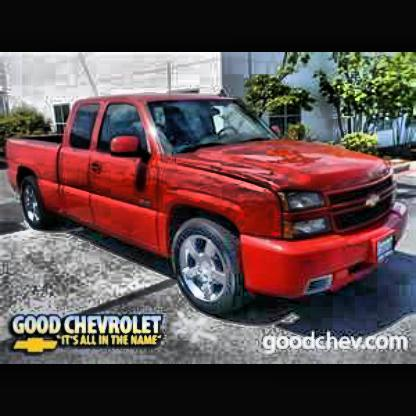Chevrolet Silverado 1500 Classic Extended Cab 2007: (5, 94, 409, 318)
